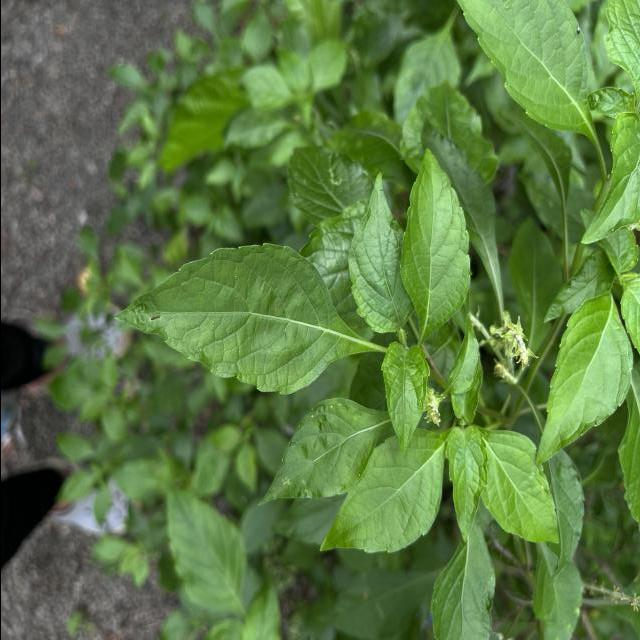Ocimum gratissimum: (105, 239, 374, 401), (451, 0, 602, 143), (533, 289, 636, 472), (314, 424, 448, 555), (252, 396, 389, 510), (396, 144, 474, 341), (476, 424, 562, 547), (378, 338, 433, 456), (442, 424, 490, 544)
